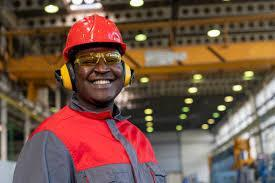Ear_protector: (55, 60, 80, 94), (123, 60, 140, 94)
Hard_hat: (62, 10, 131, 54)
Humans: (16, 45, 169, 183)
Visor: (76, 51, 117, 71)
